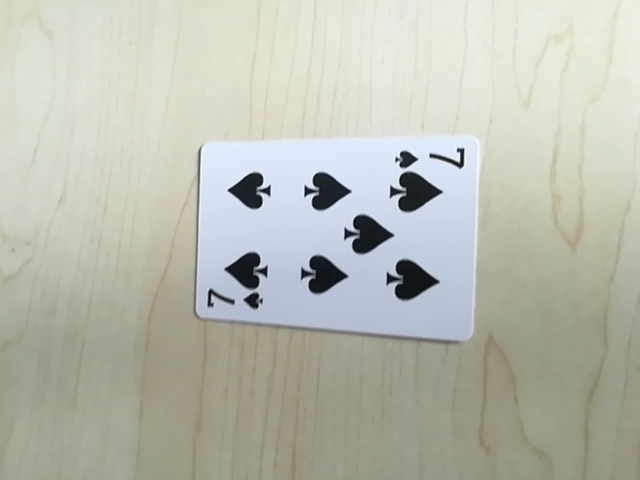ht 7: (389, 141, 472, 171), (200, 287, 267, 318)
